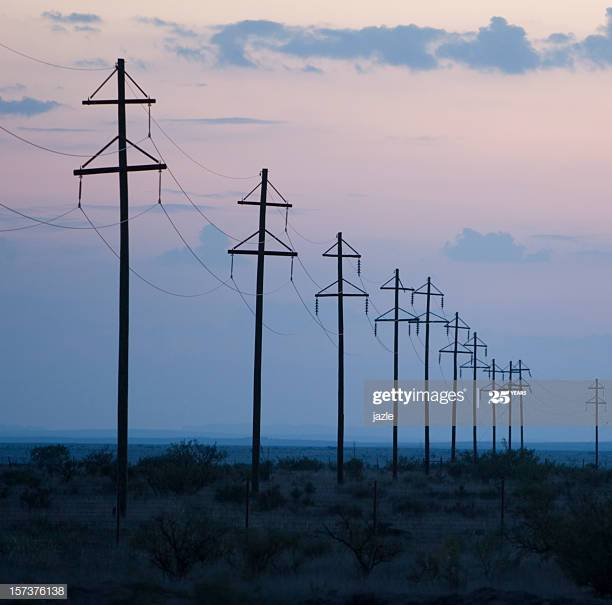utility_pole: (64, 49, 178, 234), (220, 159, 305, 295)
